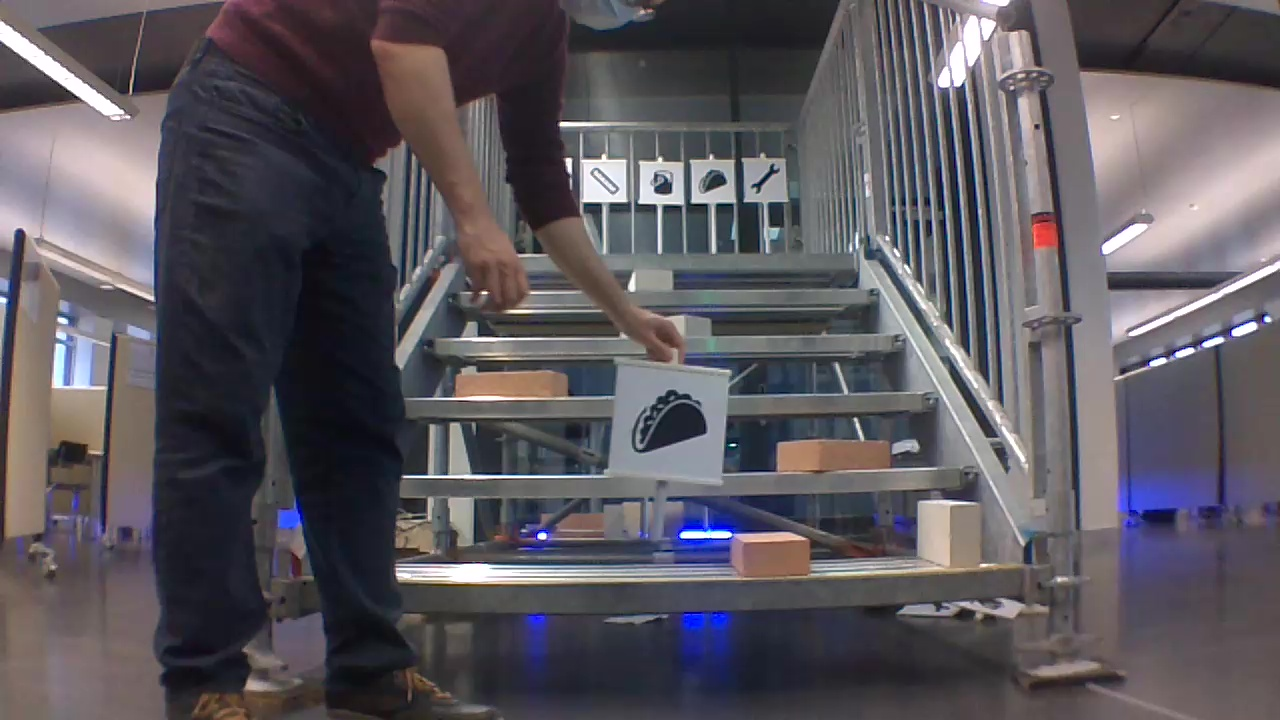brick: (919, 500, 980, 567), (776, 438, 887, 471), (730, 531, 808, 577), (456, 369, 566, 395), (628, 269, 671, 290)
bucket: (644, 168, 677, 197)
edge: (408, 565, 1025, 608), (404, 466, 976, 493)
ruler: (587, 168, 622, 197)
taco: (626, 384, 713, 457), (696, 166, 727, 197)
wrench: (746, 159, 783, 198)
